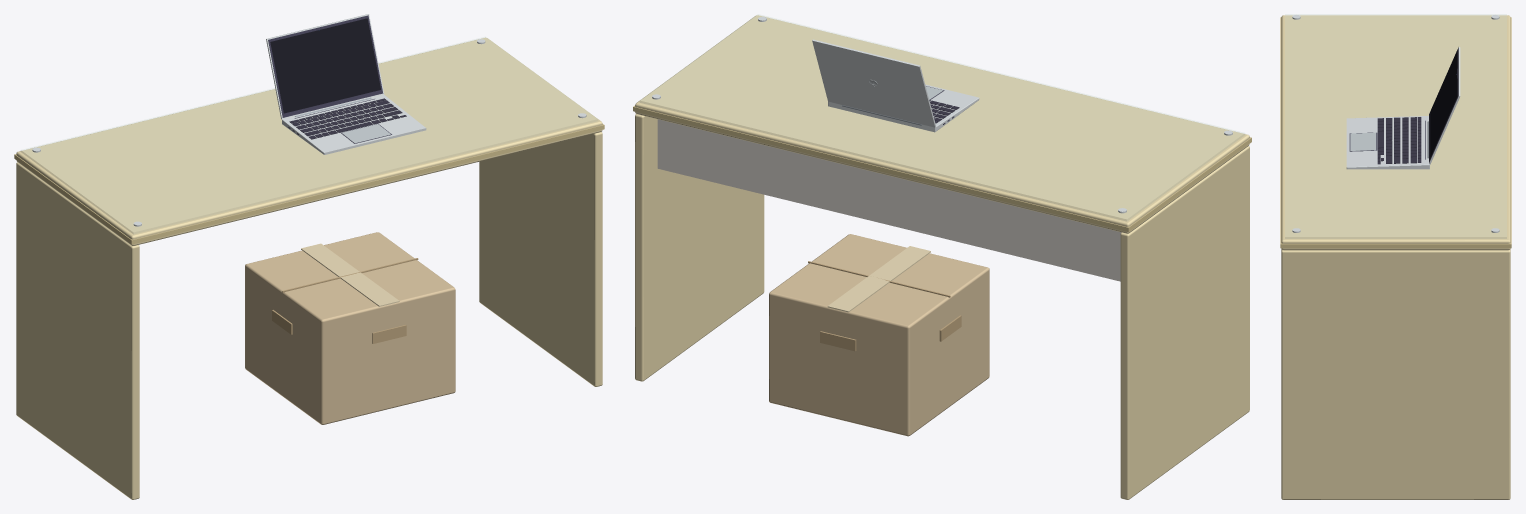
Rendered from bureau.glb.
The picture shows the model from 3 angles, left to right: view 1: azimuth 30°, elevation 25°; view 2: azimuth 150°, elevation 25°; view 3: azimuth 270°, elevation 25°; orthographic projection. The views are drawn at different scales.
Parts seen in each view (by area): view 1: bureau, ecran-mac; view 2: bureau; view 3: bureau, ecran-mac.
Boxes of the visible parts, x1,y1,x2,y2 form: bureau: [14, 14, 604, 499]; ecran-mac: [270, 18, 380, 113]; bureau: [633, 14, 1251, 499]; bureau: [1280, 14, 1511, 499]; ecran-mac: [1430, 51, 1456, 157].
Bounding box in the file's own units: 1.4 × 0.9682 × 0.604.
